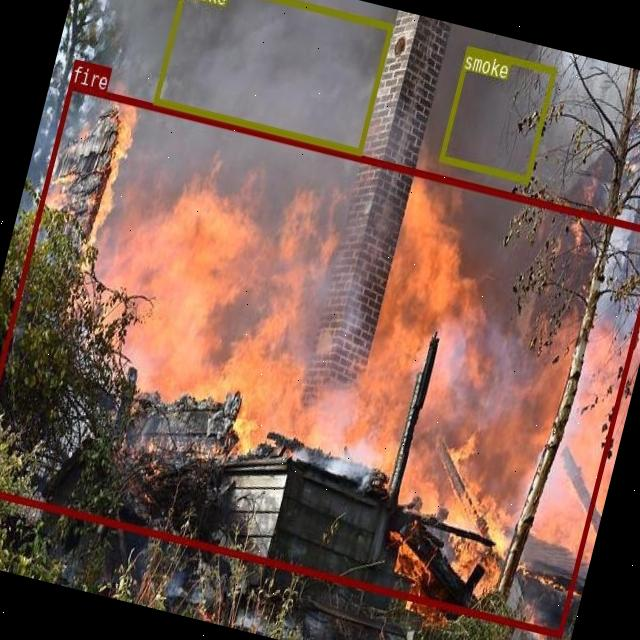fire: (0, 81, 640, 637)
smoke: (152, 0, 393, 155), (438, 44, 556, 181)
